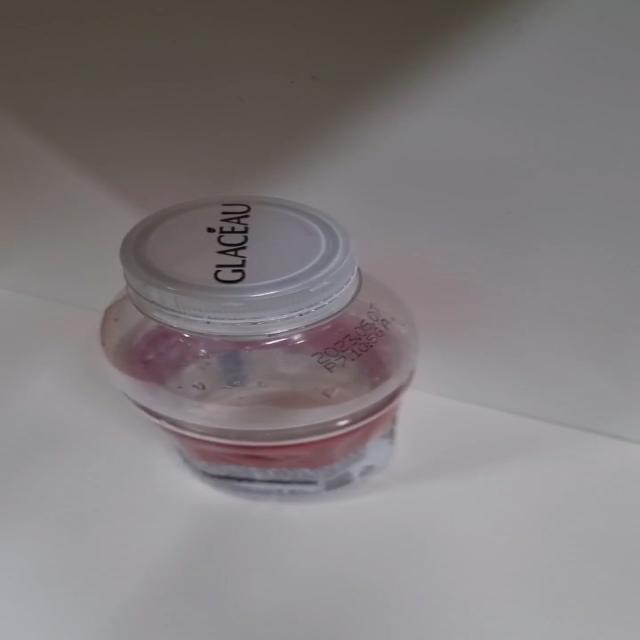Plastic: (96, 194, 420, 503)
